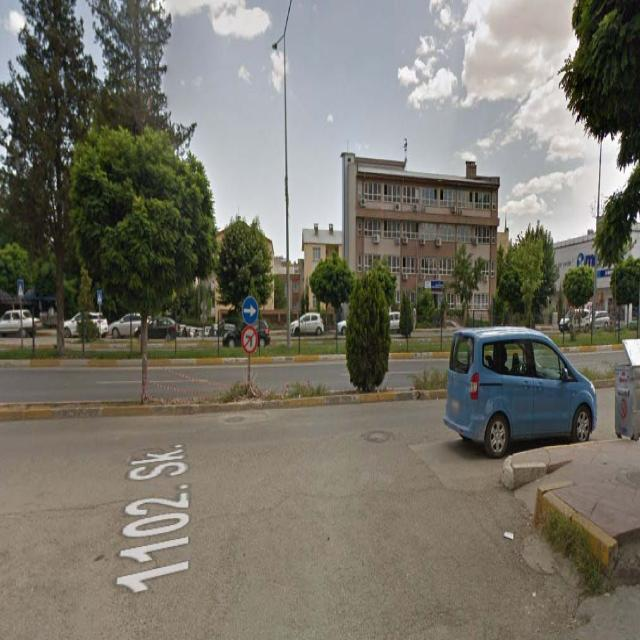sag: (243, 294, 260, 326)
soladonulmez: (243, 326, 256, 356)
